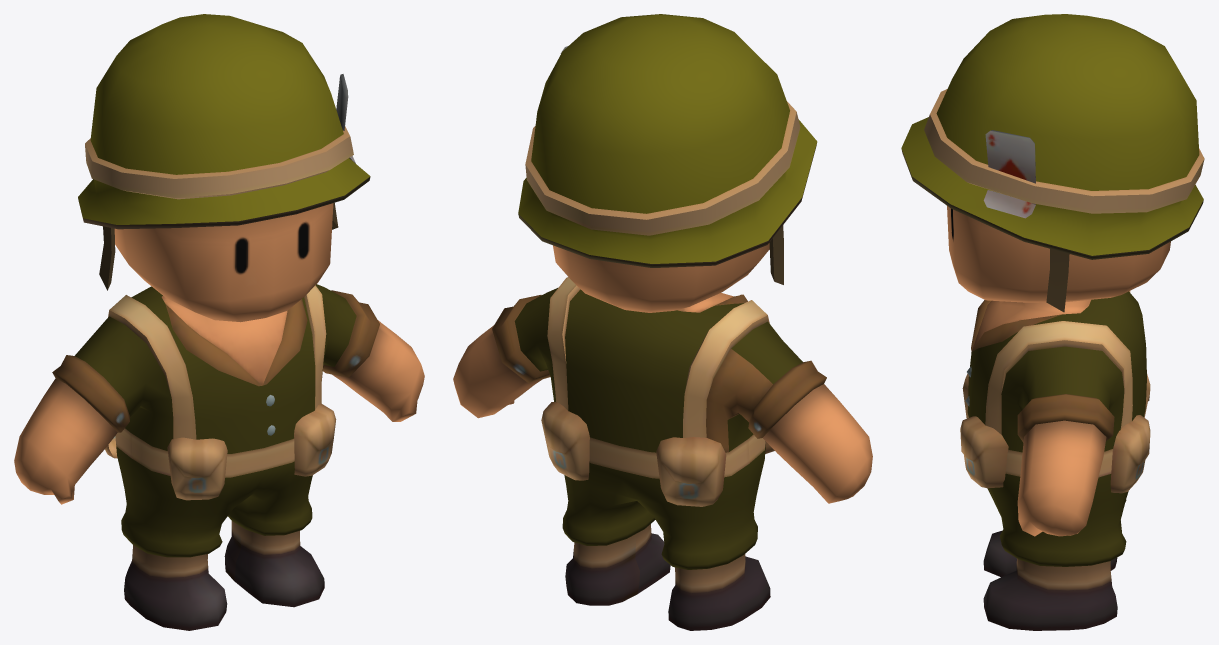
Rendered from StumbleYellow.fbx.
The picture shows the model from 3 angles, left to right: view 1: azimuth 30°, elevation 25°; view 2: azimuth 150°, elevation 25°; view 3: azimuth 270°, elevation 25°; orthographic projection. The views are drawn at different scales.
Visible parts, largest first — view 1: Player_SkinSoldier_002; view 2: Player_SkinSoldier_002; view 3: Player_SkinSoldier_002.
Boxes of the visible parts, x1,y1,x2,y2 form: Player_SkinSoldier_002: [14, 14, 424, 630]; Player_SkinSoldier_002: [453, 14, 872, 630]; Player_SkinSoldier_002: [901, 14, 1204, 630].
Bounding box in the file's own units: 1.4 × 1.88 × 0.9168.
Materials: 3 (1 with a texture image).
